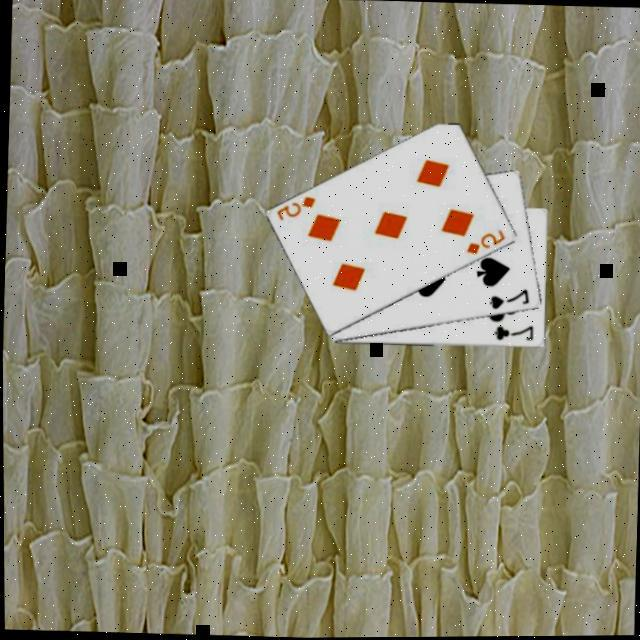5D: (460, 226, 506, 259), (271, 193, 316, 226)
7C: (488, 322, 534, 346)
7S: (483, 286, 530, 316)
